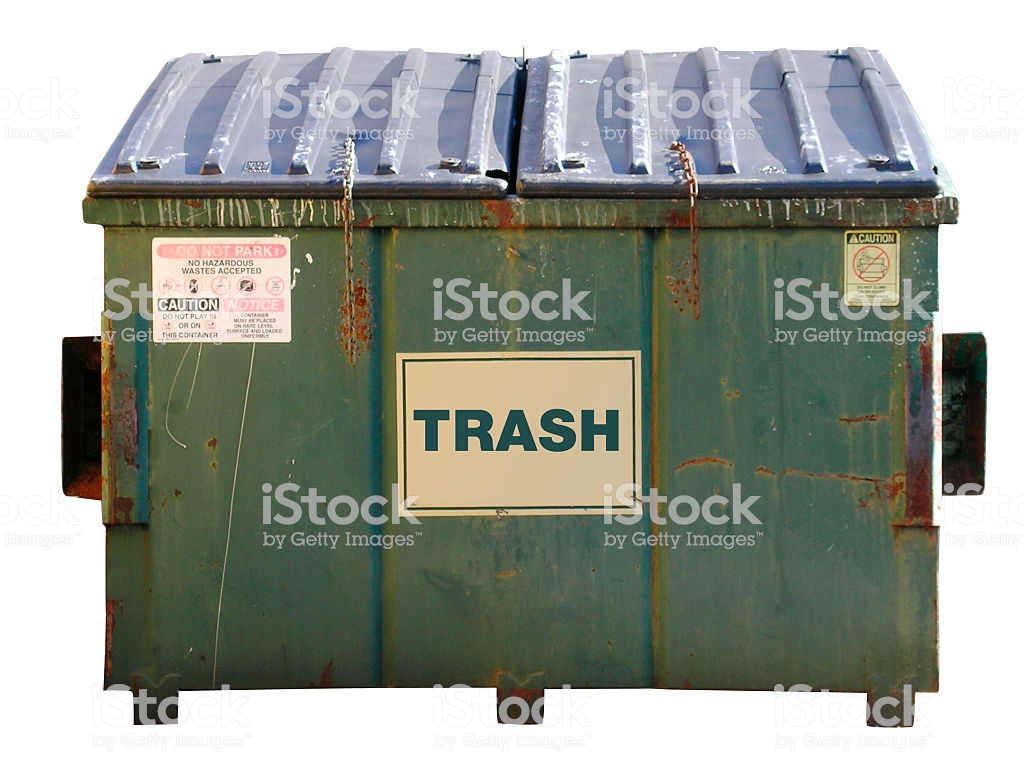Dumpster: (52, 41, 1002, 740)
